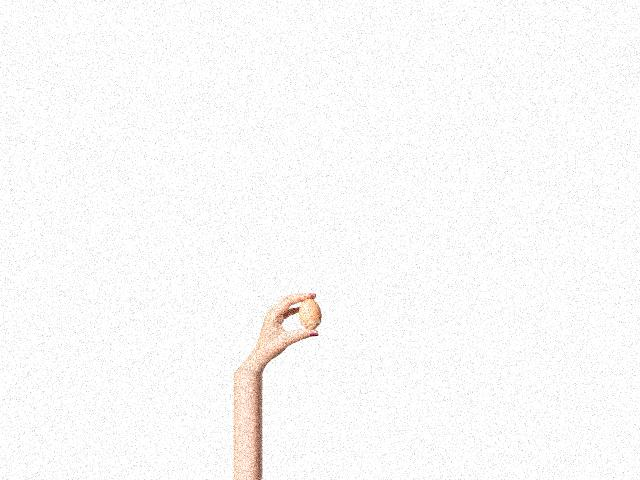egg: (298, 299, 320, 330)
